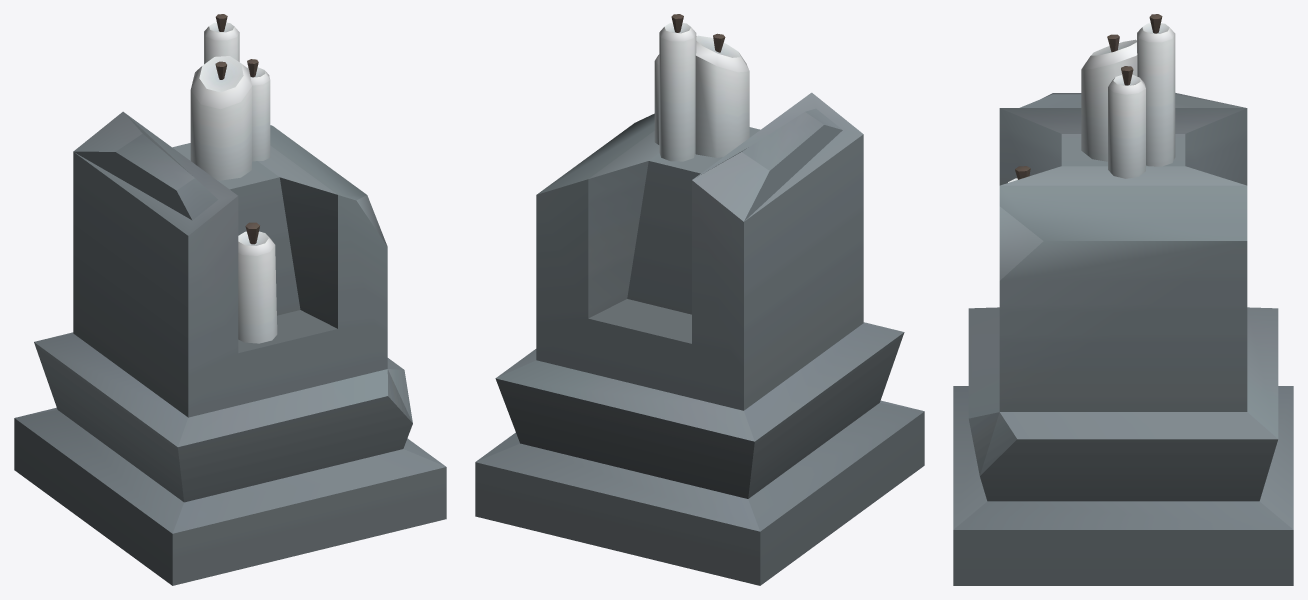
Rendered from shrine_candles.glb.
3 views of the same model, side by side, from view 1: azimuth 30°, elevation 25°; view 2: azimuth 150°, elevation 25°; view 3: azimuth 270°, elevation 25° (orthographic). The views are drawn at different scales.
Visible parts, largest first — view 1: shrine_candles; view 2: shrine_candles; view 3: shrine_candles.
Part boxes in pixels (x1,y1,x2,y2): shrine_candles: (14, 14, 446, 585); shrine_candles: (475, 14, 924, 585); shrine_candles: (953, 14, 1293, 585).
Bounding box in the file's own units: 1.1 × 1.79 × 1.1.
Materials: 1 (1 with a texture image).
